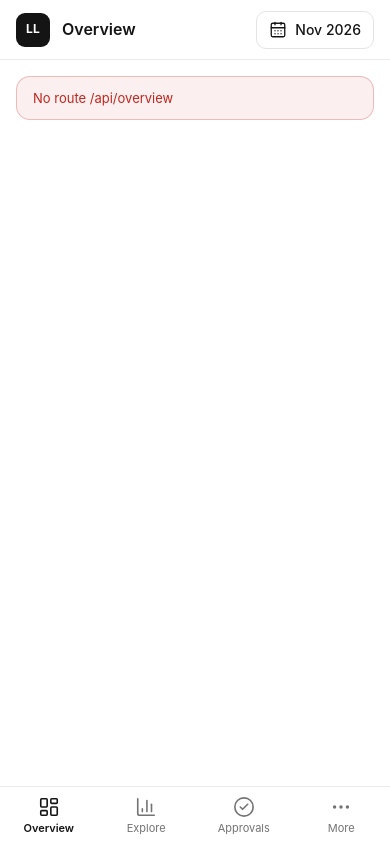
Test: the shell › puts Overview, Explore, Approvals and More on the phone’s bottom bar; More holds the rest by group
Expected: the links read "Overview", "Explore", "Approvals", in this order, [23, 796, 74, 835]; [127, 796, 166, 835]; [218, 796, 270, 835]
Click the button "More" at (341, 815), box [292, 787, 389, 843]
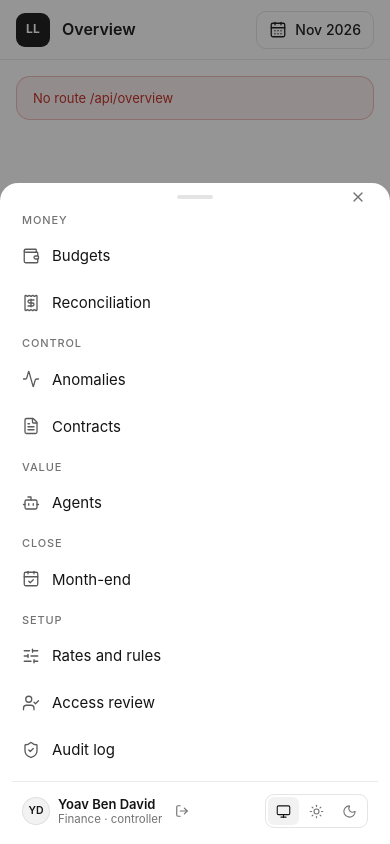
Expected: the element named "Theme" is shown, [265, 794, 368, 828]
